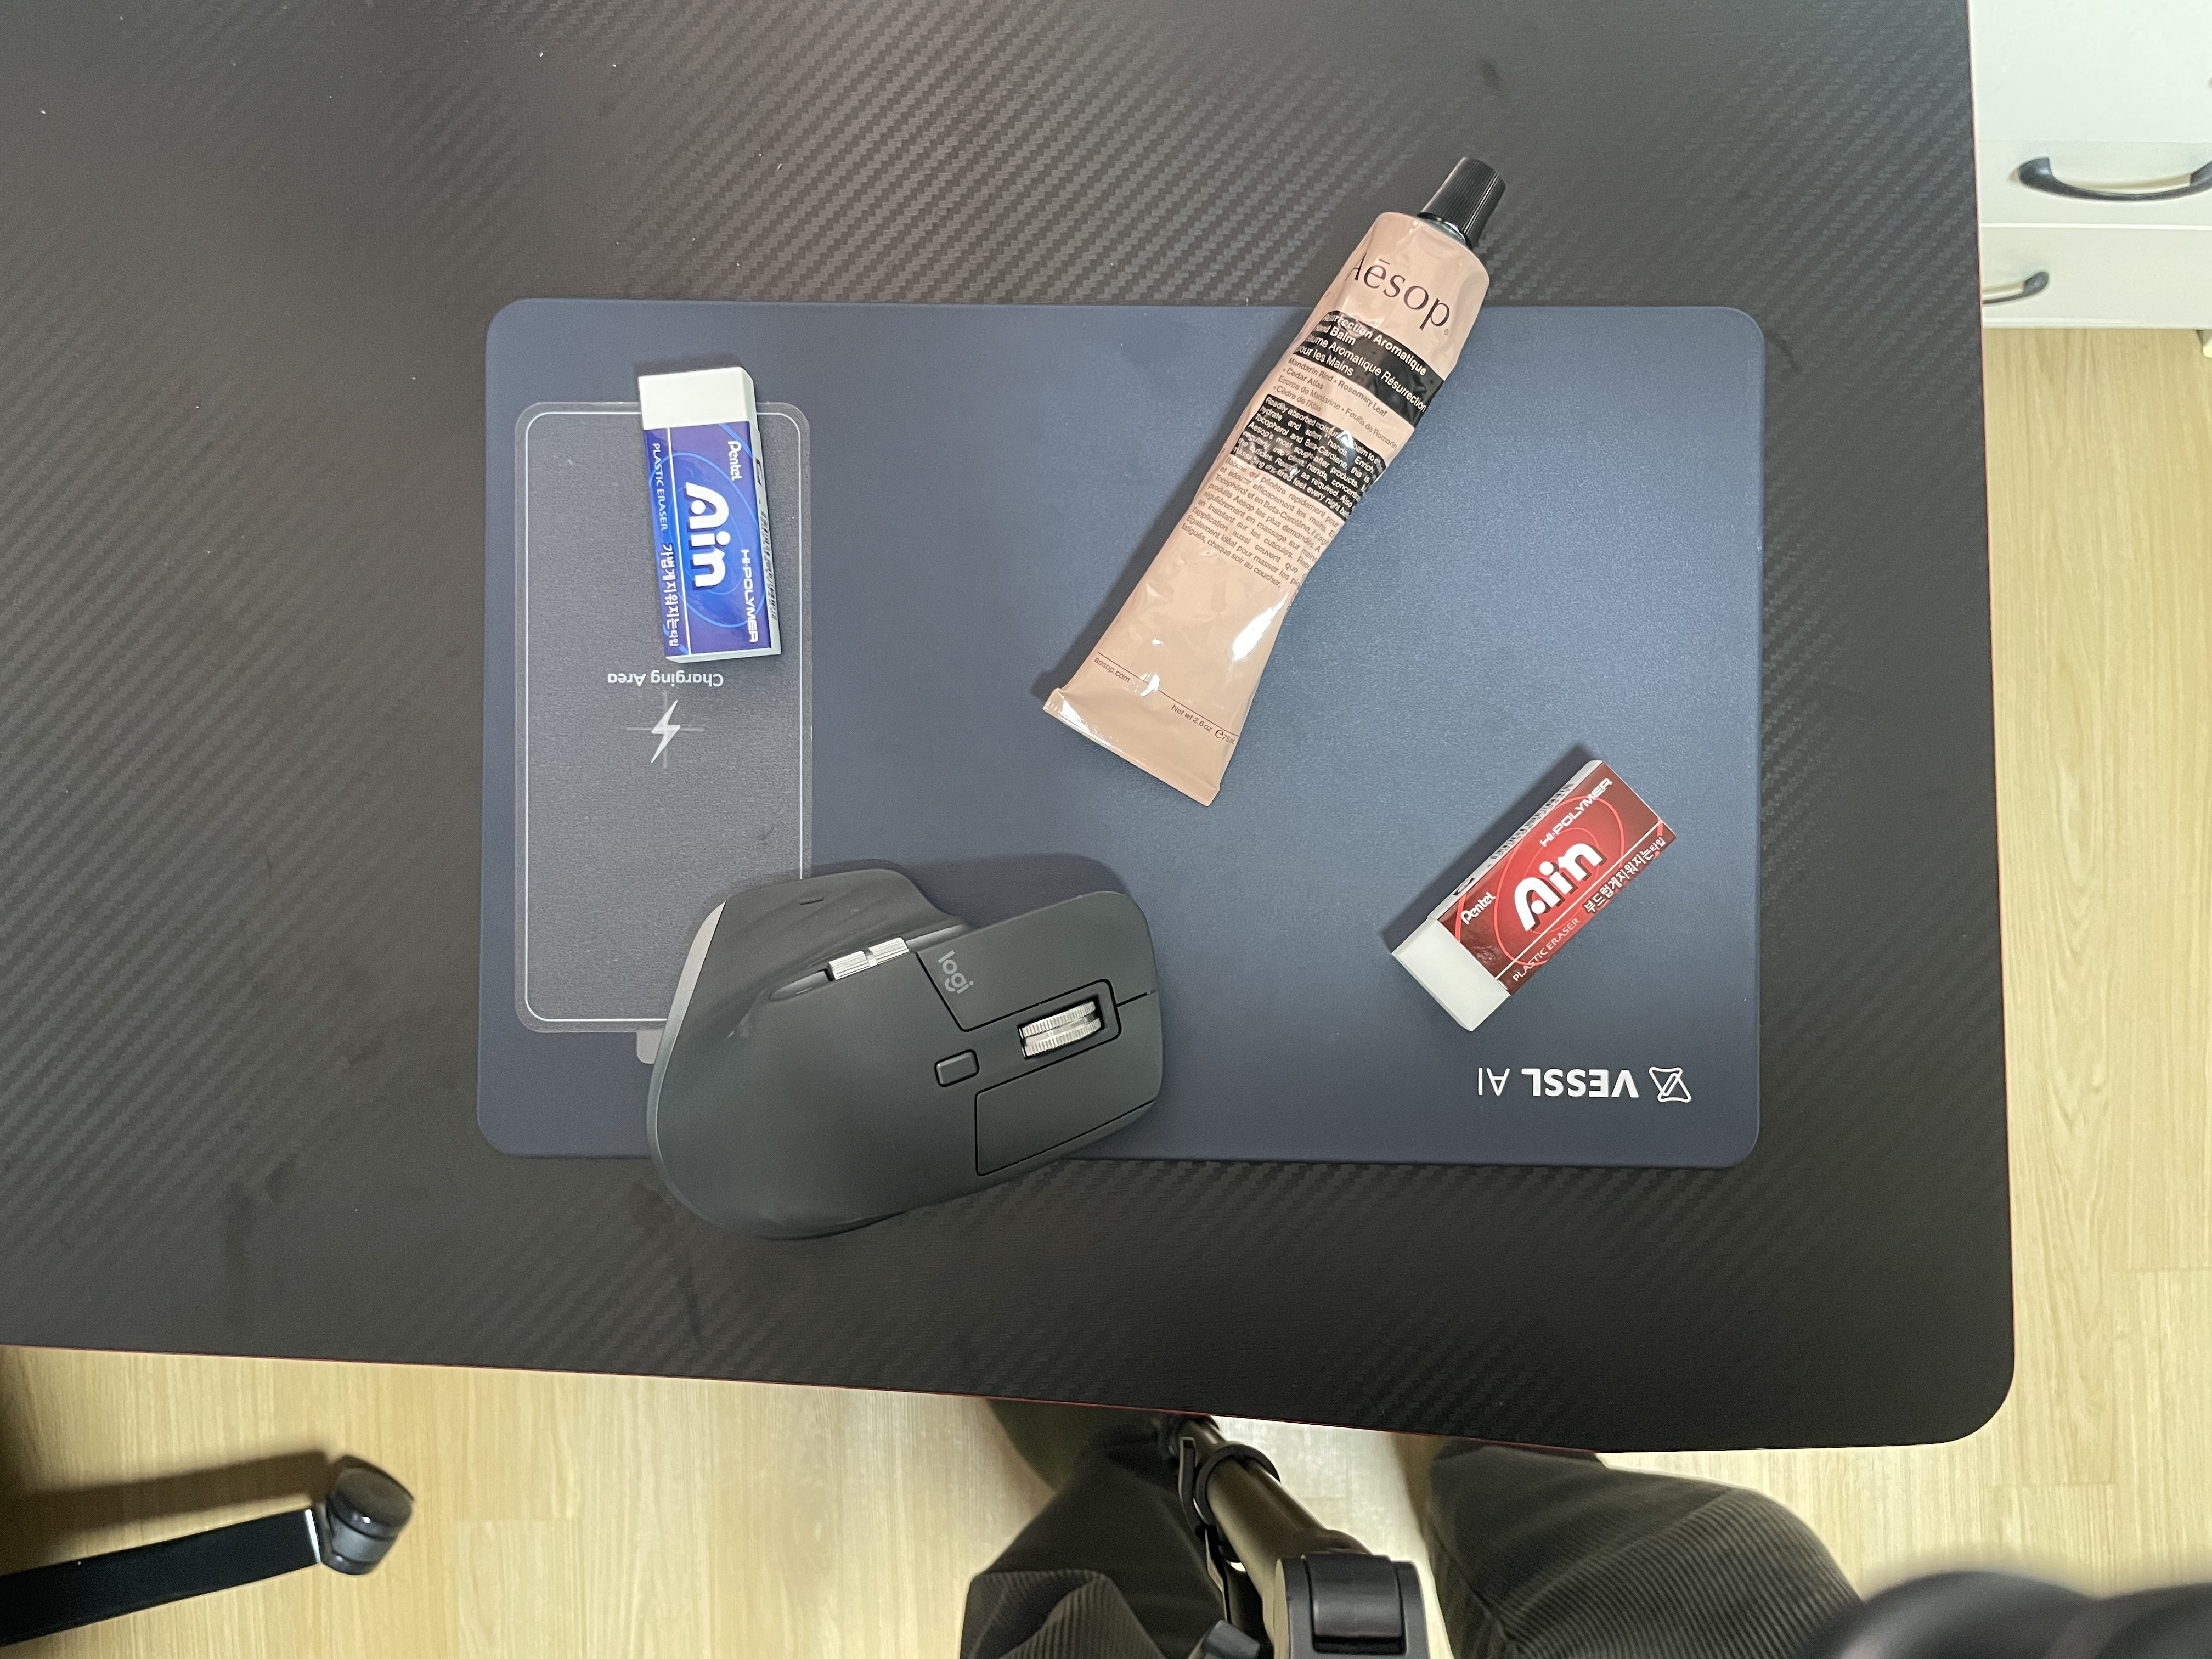blue: (625, 354, 796, 680)
red: (1379, 739, 1686, 1047)
